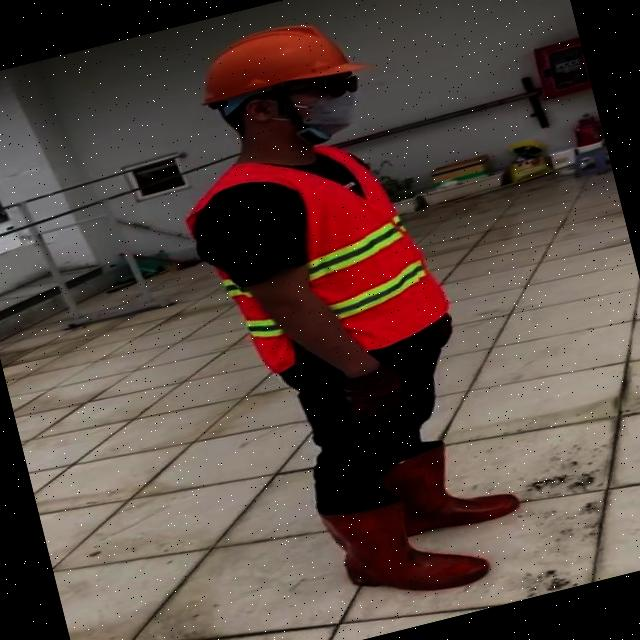boots: (318, 476, 491, 614), (376, 427, 519, 544)
